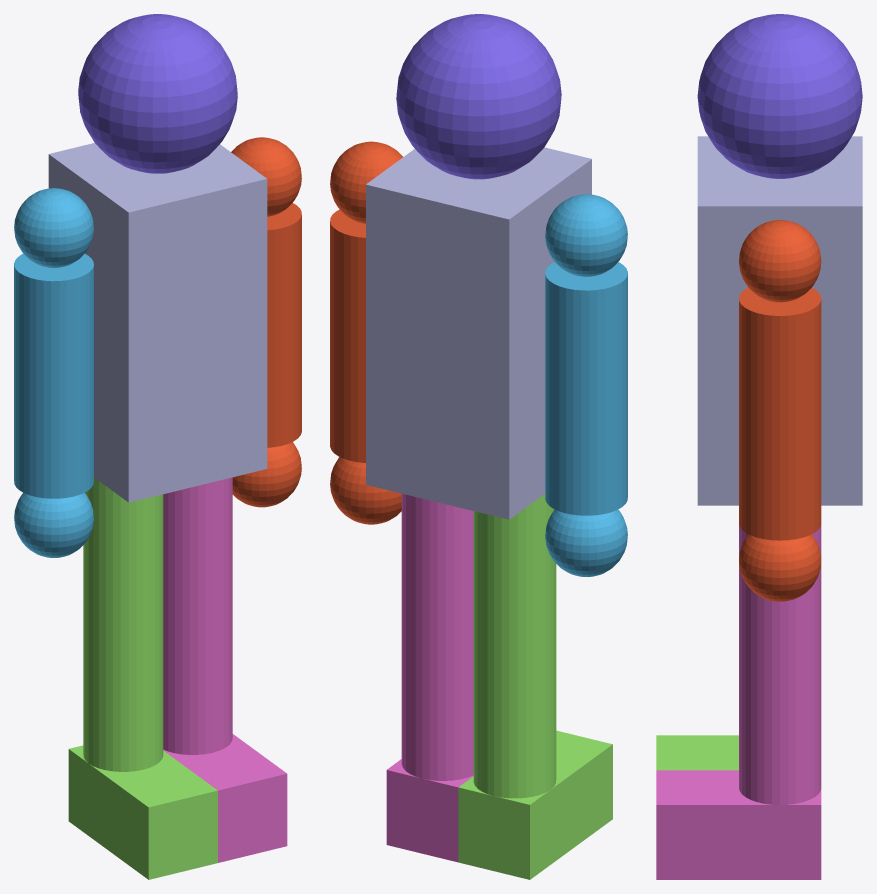
The model's file is Player_idle.fbx.
The picture shows the model from 3 angles, left to right: view 1: azimuth 30°, elevation 25°; view 2: azimuth 150°, elevation 25°; view 3: azimuth 270°, elevation 25°; orthographic projection. The views are drawn at different scales.
Visible parts, largest first — view 1: Cube, leg.R, arm.R, leg.L, Sphere, arm.L; view 2: Cube, leg.R, arm.R, leg.L, Sphere, arm.L; view 3: Cube, leg.L, arm.L, Sphere, leg.R.
Boxes of the visible parts, x1,y1,x2,y2 form: Cube: (48, 143, 267, 502); leg.R: (68, 477, 217, 879); arm.R: (14, 188, 93, 557); leg.L: (163, 477, 287, 862); Sphere: (78, 14, 237, 173); arm.L: (231, 137, 301, 507); Cube: (366, 147, 591, 519); leg.R: (458, 494, 612, 879); arm.R: (545, 194, 627, 576); leg.L: (386, 493, 473, 862); Sphere: (396, 14, 561, 179); arm.L: (330, 141, 402, 524); Cube: (697, 136, 862, 505); leg.L: (656, 524, 821, 879); arm.L: (739, 220, 821, 601); Sphere: (697, 14, 862, 178); leg.R: (656, 735, 738, 770).
Size of the model in its own units: 4 by 11 by 2.5.
